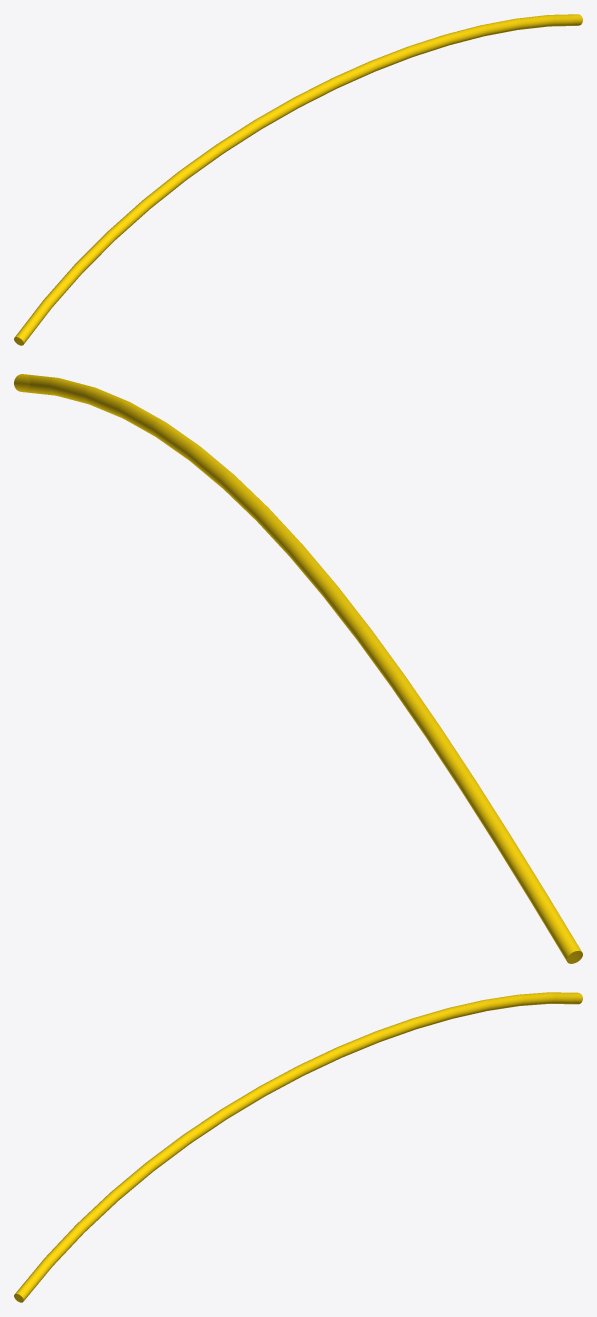
Rendered from Event_420094457_track_97.fbx.
The picture shows the model from 3 angles, top to bottom: view 1: azimuth 90°, elevation 25°; view 2: azimuth 150°, elevation 25°; view 3: azimuth 270°, elevation 25°; orthographic projection. The views are drawn at different scales.
Parts seen in each view (by area): view 1: Model; view 2: Model; view 3: Model.
Boxes of the visible parts, x1=… form: Model: x1=14, y1=14, x2=582, y2=345; Model: x1=14, y1=374, x2=582, y2=963; Model: x1=14, y1=992, x2=582, y2=1302.
Bounding box in the file's own units: 2.56 × 0.3546 × 1.96.
